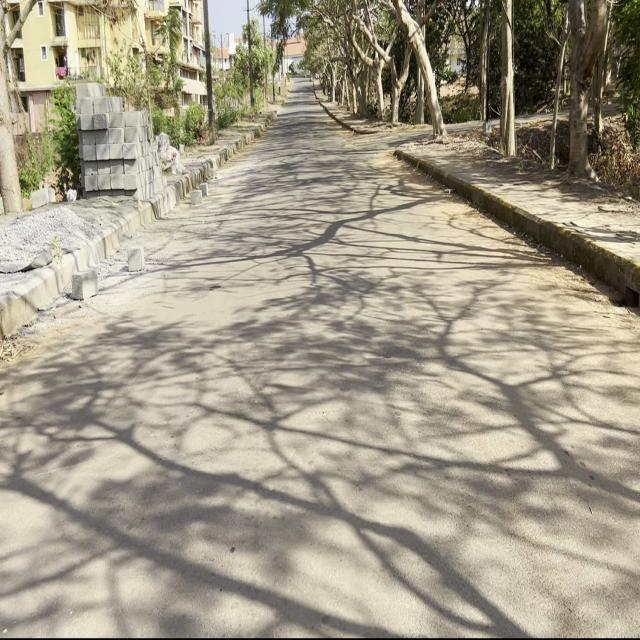Road: (0, 84, 640, 640)
